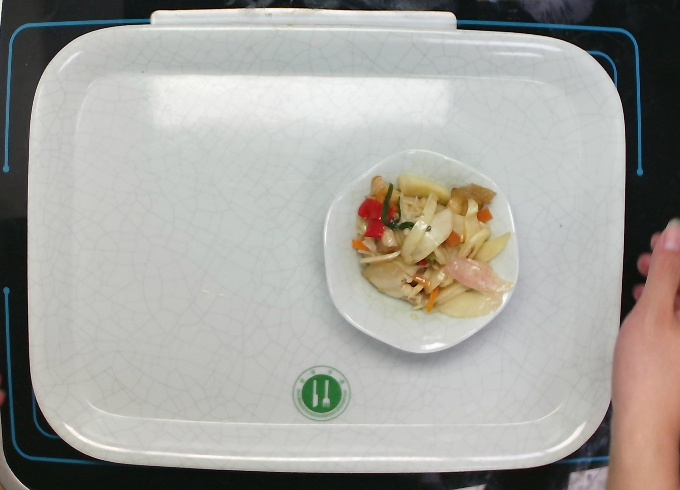WCQzf-Hua_Duo_Wan: (315, 146, 525, 360)
